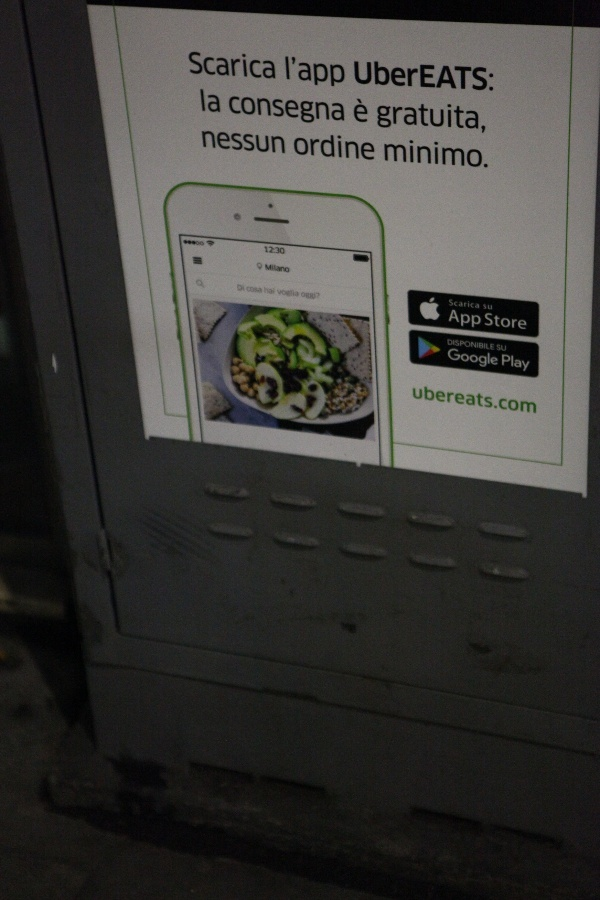text: (289, 55, 304, 91), (305, 55, 320, 91), (321, 55, 336, 91), (385, 99, 400, 134), (401, 99, 416, 134), (417, 99, 432, 134), (433, 99, 448, 134), (449, 99, 464, 134), (465, 99, 480, 134), (193, 46, 208, 80), (209, 46, 224, 80), (225, 46, 240, 80), (241, 46, 256, 80), (257, 46, 272, 80), (305, 127, 320, 160), (321, 127, 336, 160), (337, 127, 352, 160), (353, 127, 368, 160), (369, 61, 384, 92), (385, 61, 400, 92), (401, 61, 416, 92), (417, 61, 432, 92), (433, 61, 448, 92), (449, 61, 464, 92), (465, 61, 480, 92), (241, 96, 256, 127), (257, 96, 272, 127), (273, 96, 288, 127), (289, 96, 304, 127), (305, 96, 320, 127), (321, 96, 336, 127), (417, 385, 432, 414), (433, 385, 448, 414), (449, 385, 464, 414), (465, 385, 480, 414), (481, 385, 496, 414), (497, 385, 512, 414), (513, 385, 528, 414), (354, 61, 368, 92), (385, 140, 400, 168), (401, 140, 416, 168), (417, 140, 432, 168), (433, 140, 448, 168), (449, 140, 464, 168), (465, 140, 480, 168), (481, 61, 494, 92), (293, 127, 304, 160), (354, 99, 368, 124), (209, 131, 224, 154), (225, 131, 240, 154), (241, 131, 256, 154), (257, 131, 272, 154), (229, 96, 240, 127), (209, 88, 221, 113), (449, 348, 464, 368), (465, 348, 480, 368), (481, 348, 496, 368), (513, 352, 528, 372), (337, 55, 345, 91), (497, 312, 512, 331), (273, 131, 285, 154), (465, 310, 480, 328), (513, 312, 527, 331), (481, 140, 489, 168), (337, 96, 344, 127), (452, 310, 464, 328), (378, 99, 384, 134), (481, 99, 487, 134), (485, 312, 496, 331), (529, 385, 536, 414), (200, 88, 208, 113), (502, 352, 512, 372), (369, 127, 375, 160), (449, 296, 464, 309), (465, 296, 480, 309), (449, 339, 464, 351), (465, 339, 480, 351), (481, 339, 494, 351), (202, 131, 208, 154), (188, 46, 192, 80), (273, 264, 288, 273), (305, 291, 320, 300), (497, 344, 512, 352), (285, 55, 288, 91), (273, 46, 276, 80), (277, 289, 288, 298), (273, 247, 285, 255), (289, 289, 299, 298), (413, 385, 416, 414), (483, 305, 496, 311), (247, 286, 256, 293), (265, 247, 272, 255), (265, 286, 272, 294), (266, 264, 272, 273), (529, 352, 531, 372), (257, 286, 262, 293), (301, 291, 304, 300), (241, 283, 244, 291), (497, 348, 498, 368), (481, 310, 482, 328), (238, 283, 240, 291), (273, 286, 275, 294), (289, 264, 290, 273)
